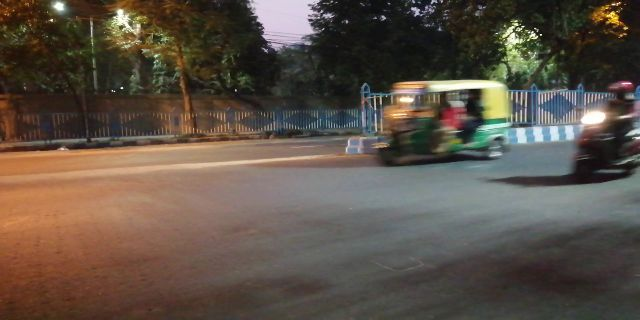Autorickshaw: (370, 75, 514, 160)
Motorbike: (571, 79, 638, 191)
